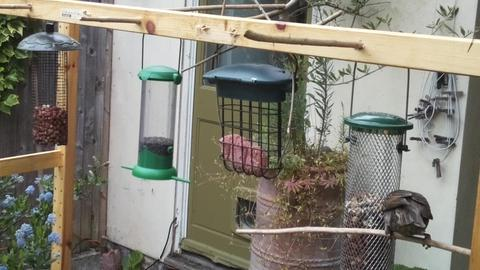starling: (383, 189, 434, 250)
